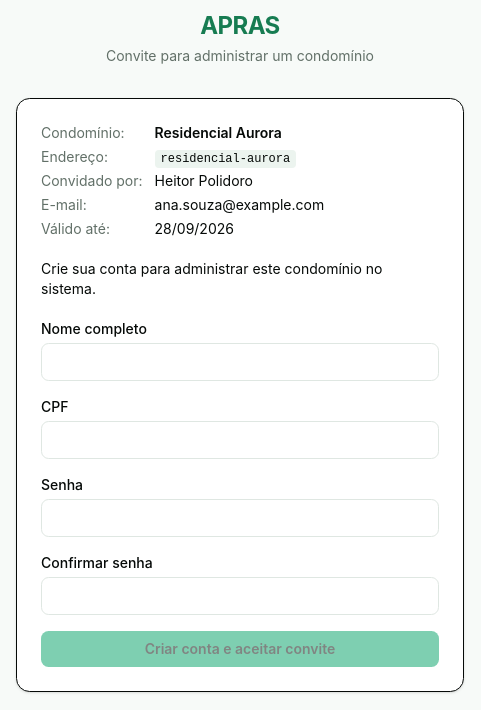
AcceptInvitationPage — the accept STATUS chooses the outcome › account_exists false receiving 200 lands on the terminal panel, signed out
This screenshot has width=481, height=710.
Expected: the element with test id "invitation-preview" is shown, [41,124,324,237]
In the field labelled "Nome completo": {"x": 240, "y": 362} [41,343,439,381], type "Ana Souza"
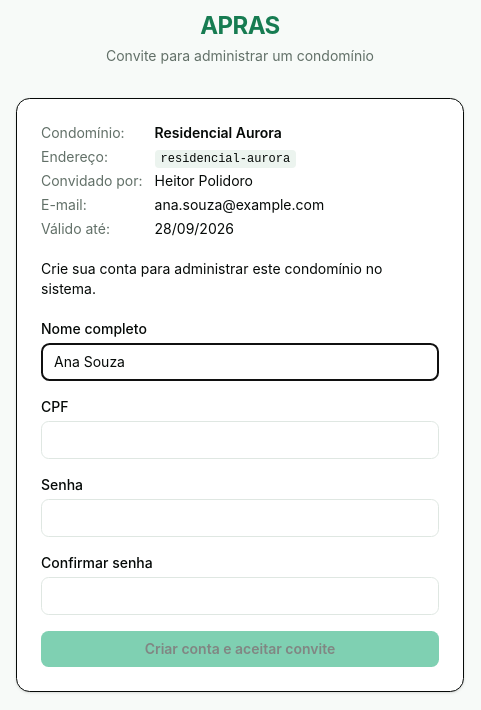
In the field labelled "CPF": {"x": 240, "y": 440} [41,421,439,459], type "529.982.247-25"
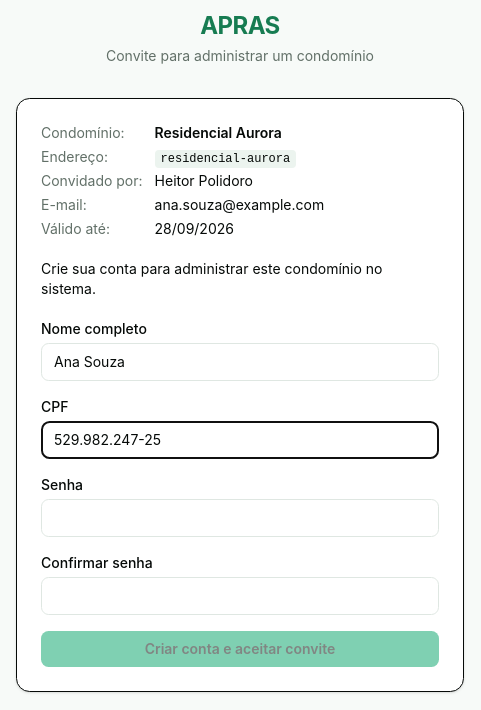
In the password field labelled "Senha": {"x": 240, "y": 518} [41,499,439,537], type "Senha!123"
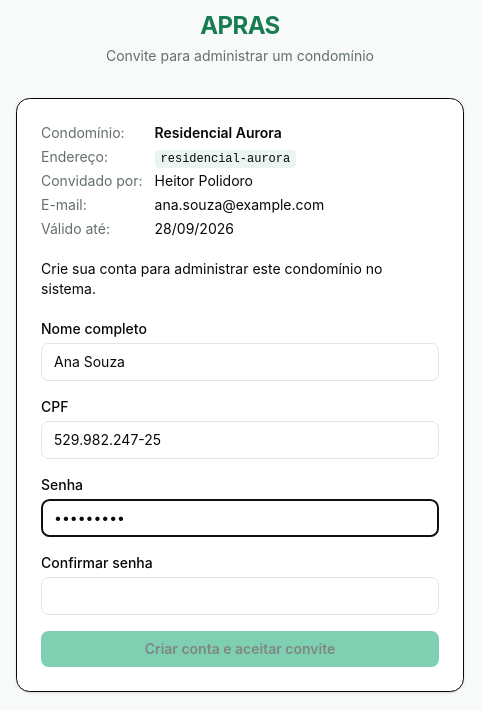
In the password field labelled "Confirmar senha": {"x": 240, "y": 596} [41,577,439,615], type "Senha!123"
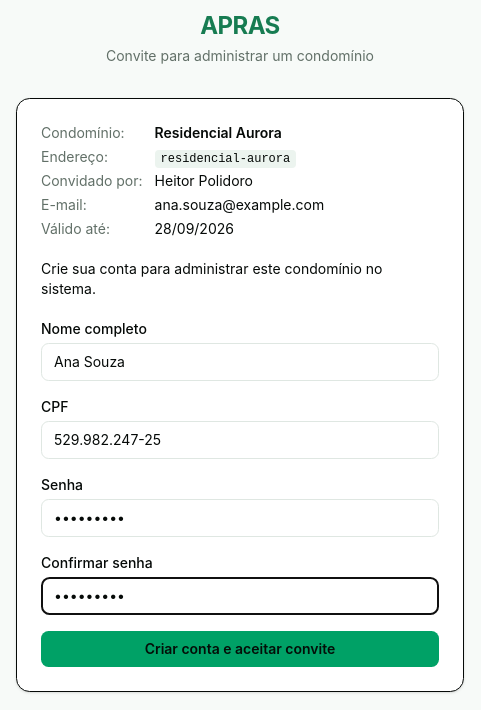
Click the button "Criar conta e aceitar convite": {"x": 240, "y": 649} [41,631,439,667]
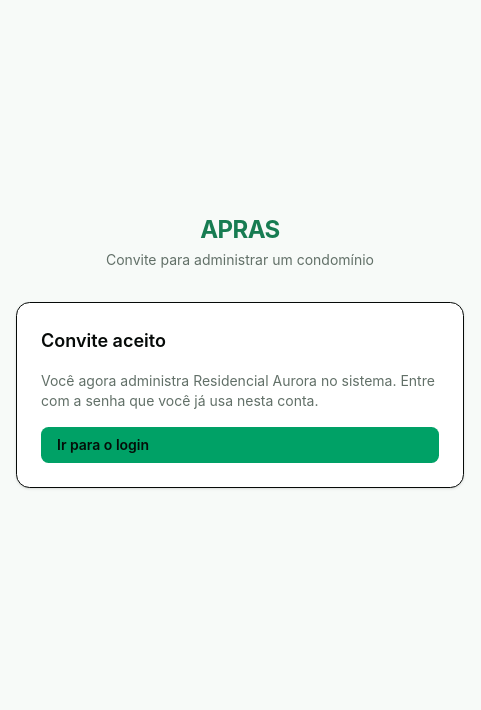
Now the element with test id "invitation-linked" shows "Residencial Aurora", box [41,372,435,409]
